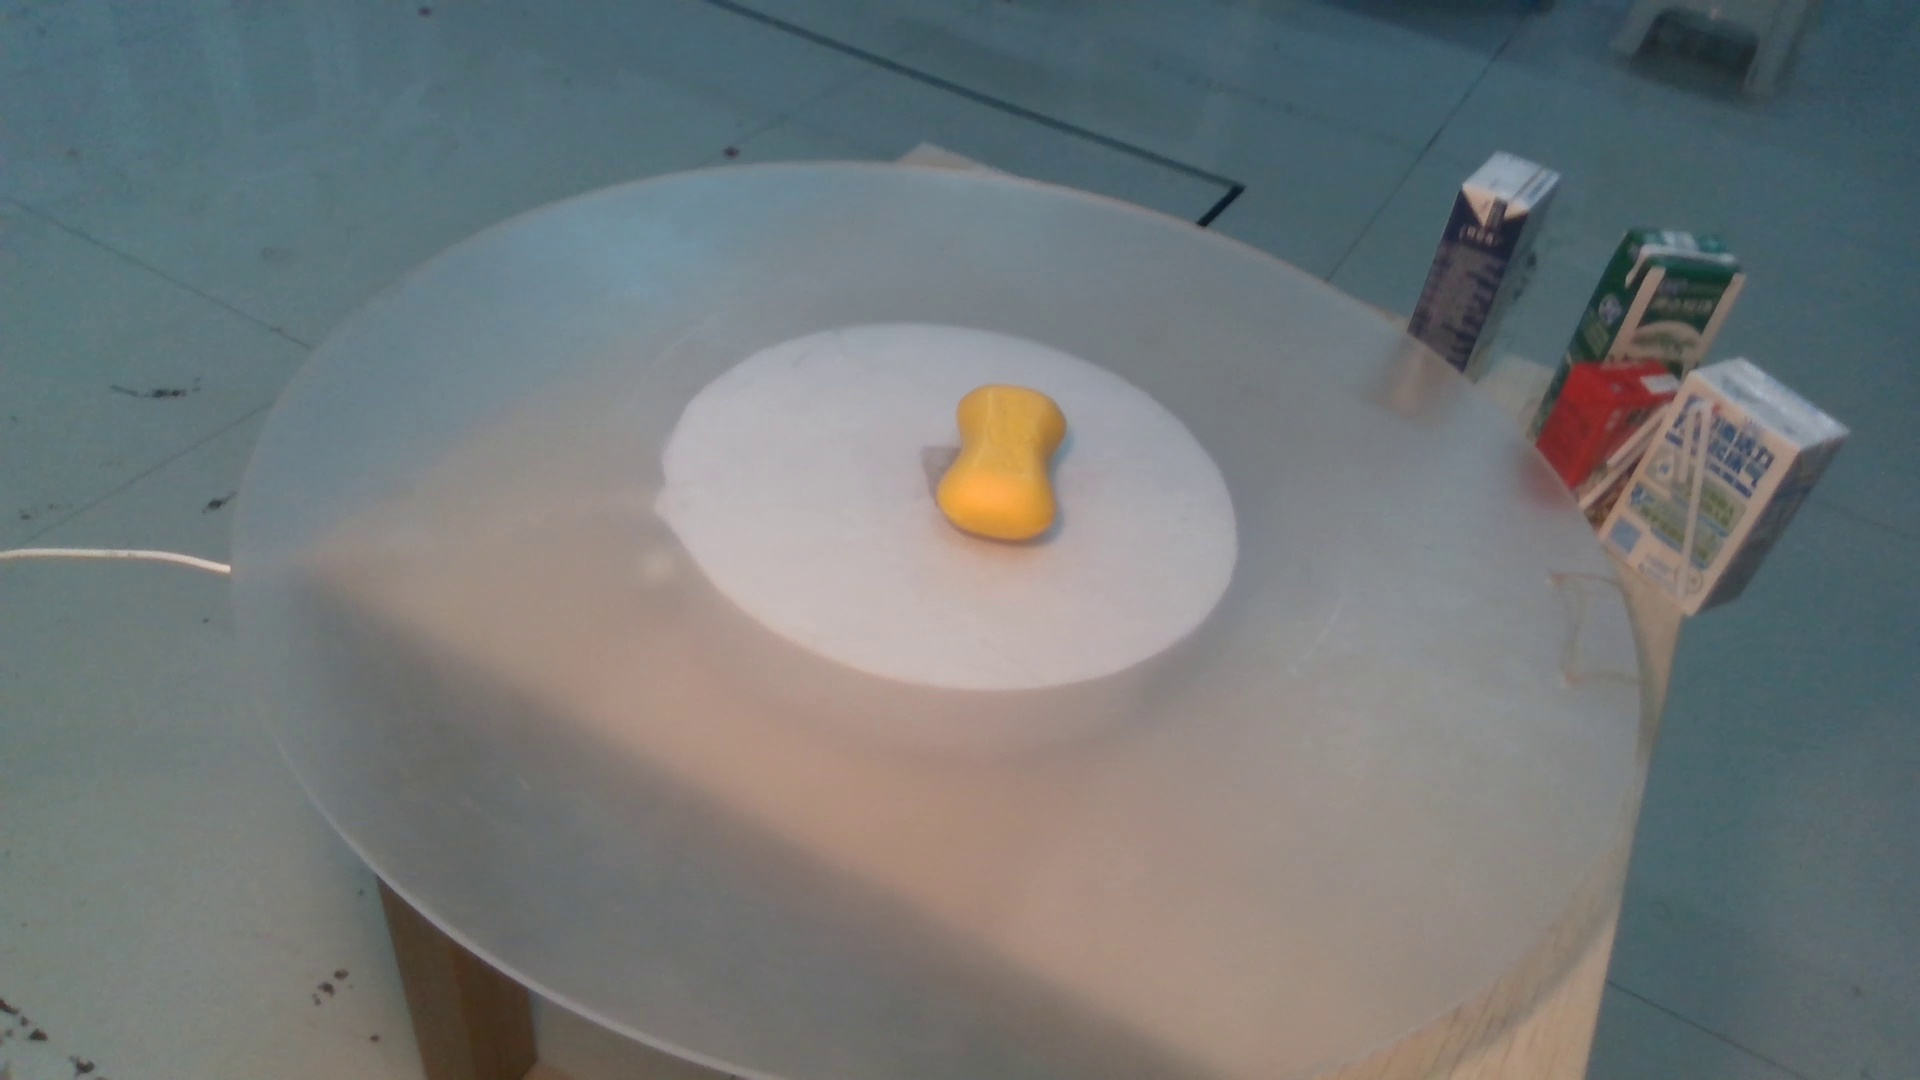CA003_1: (920, 378, 1097, 549)
